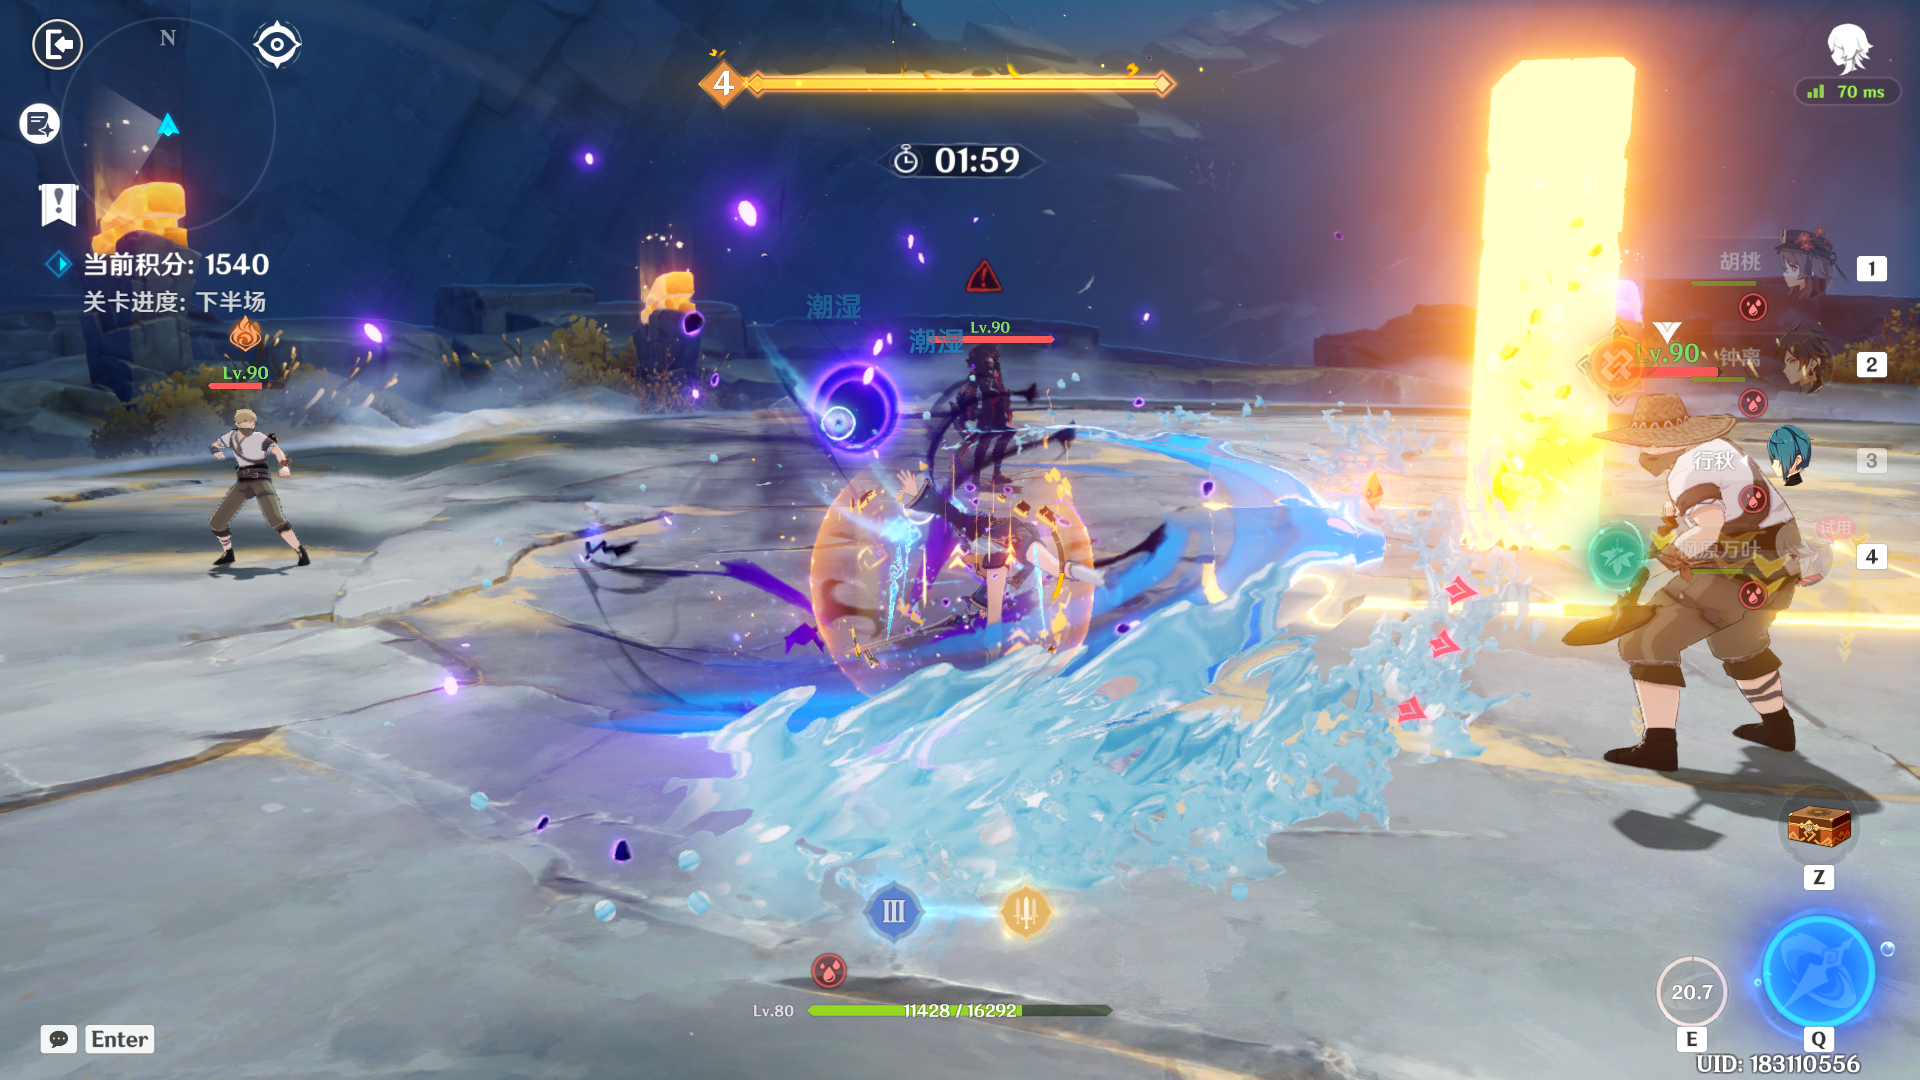robber: (1527, 356, 1838, 806), (196, 364, 363, 615)
